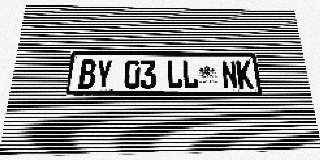0: (124, 60, 140, 89)
3: (140, 60, 156, 89)
B: (78, 59, 96, 89)
K: (236, 61, 253, 89)
L: (182, 60, 198, 89), (167, 60, 182, 89)
N: (221, 60, 238, 89)
Y: (95, 60, 112, 89)
